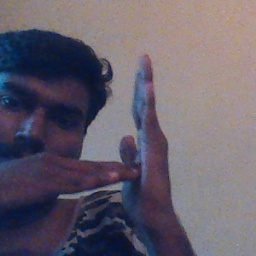Z: (63, 52, 174, 236)
